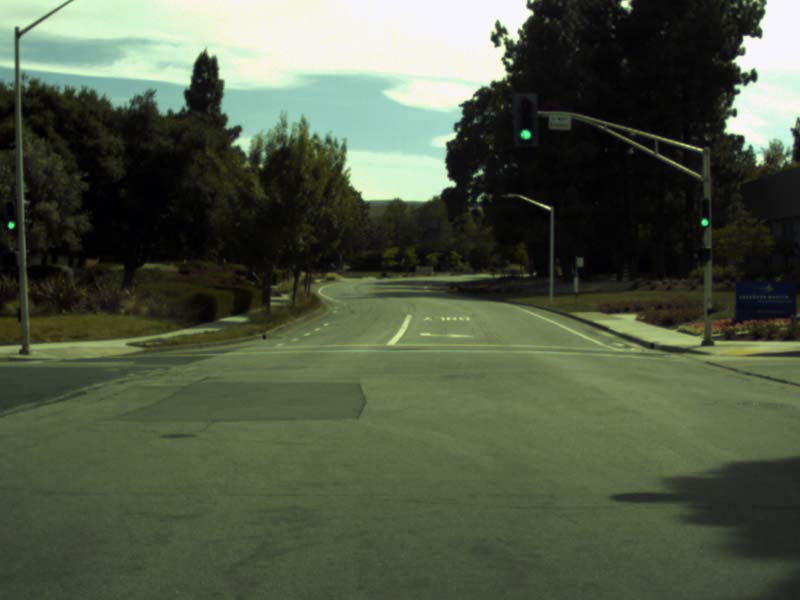Green: (514, 93, 536, 146), (5, 202, 14, 228), (701, 200, 708, 226)
